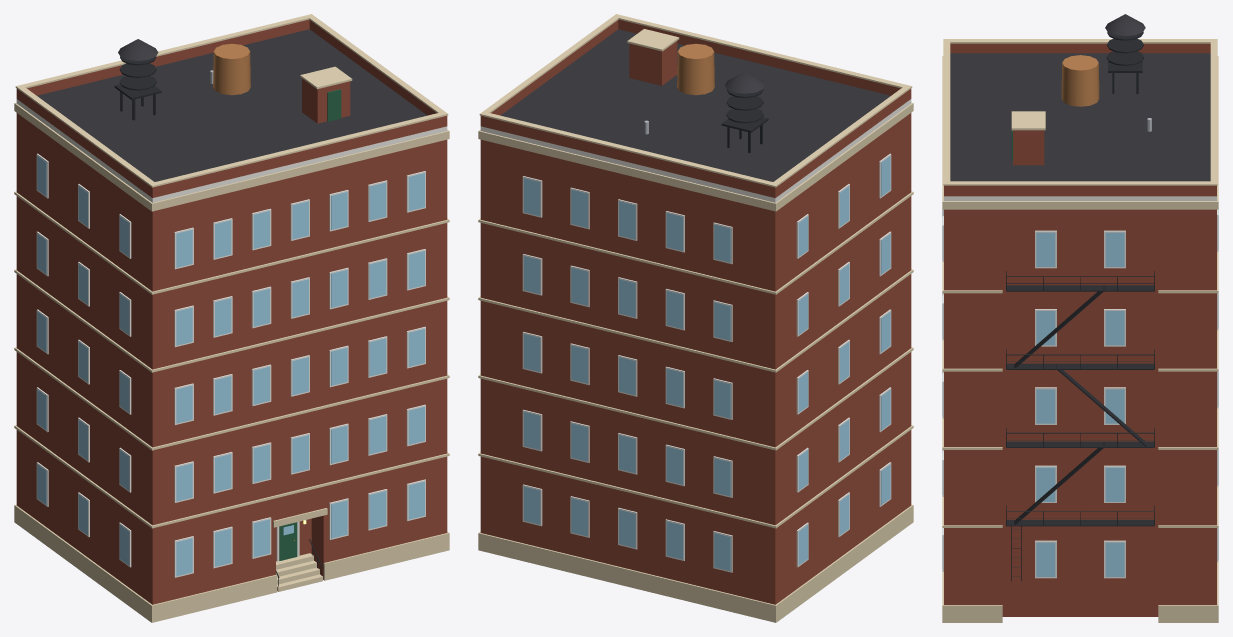
Rendered from building_apartment.glb.
3 renders of one model, left to right at view 1: azimuth 30°, elevation 25°; view 2: azimuth 150°, elevation 25°; view 3: azimuth 270°, elevation 25°, orthographic.
Parts seen in each view (by area): view 1: body; view 2: body; view 3: body.
Part boxes in pixels (box(x1,y1,x2,y2)): body: box(14, 14, 449, 622); body: box(478, 14, 913, 622); body: box(942, 14, 1218, 622).
Size of the model in its own units: 2000 by 3200 by 1600.
